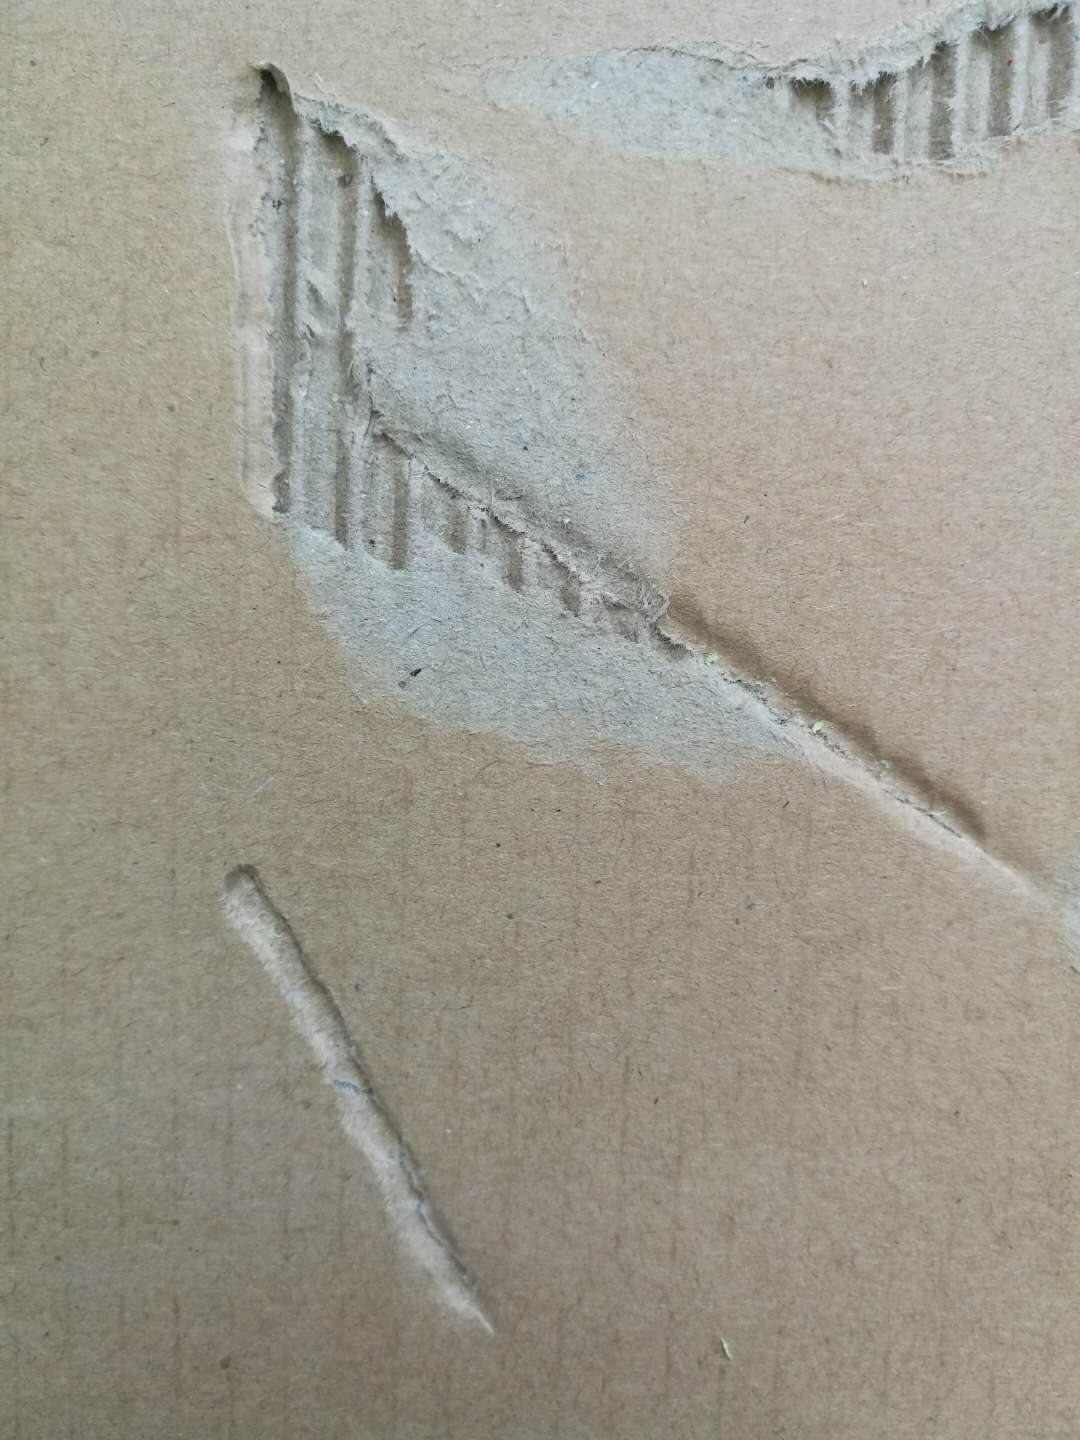defect: (199, 41, 1080, 968), (186, 844, 525, 1359), (459, 2, 1080, 205)
